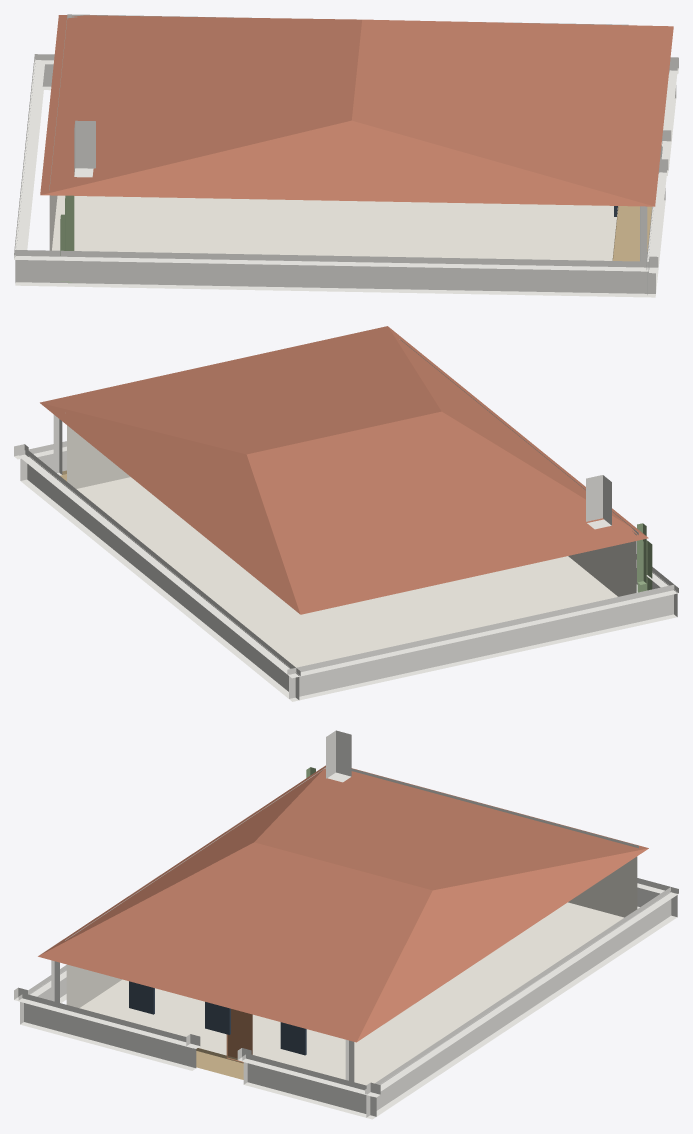
File: cunucu_scruz_hip_a.glb
The picture shows the model from 3 angles, top to bottom: view 1: azimuth 30°, elevation 25°; view 2: azimuth 150°, elevation 25°; view 3: azimuth 270°, elevation 25°; orthographic projection. The views are drawn at different scales.
Parts seen in each view (by area): view 1: cunucu_scruz_hip_a_lod0; view 2: cunucu_scruz_hip_a_lod0; view 3: cunucu_scruz_hip_a_lod0.
Boxes of the visible parts, x1,y1,x2,y2 form: cunucu_scruz_hip_a_lod0: (14, 14, 678, 297); cunucu_scruz_hip_a_lod0: (14, 326, 678, 701); cunucu_scruz_hip_a_lod0: (14, 730, 678, 1119).
Size of what is drawn, in the model's own units: 26.77 by 5 by 25.09.
